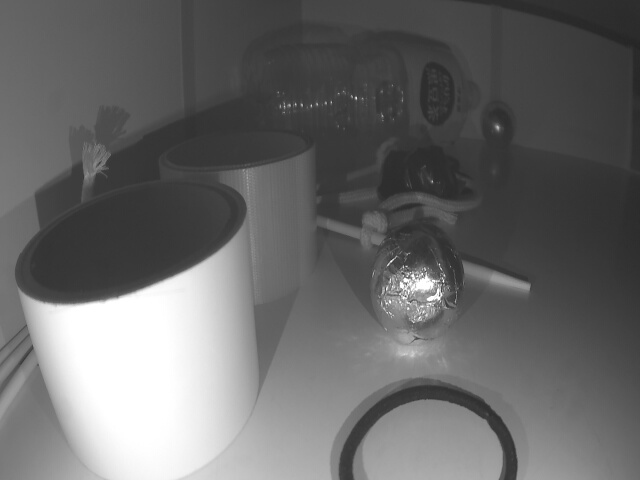Dead: (386, 150, 456, 208)
Live: (369, 224, 460, 345), (483, 98, 514, 145)
